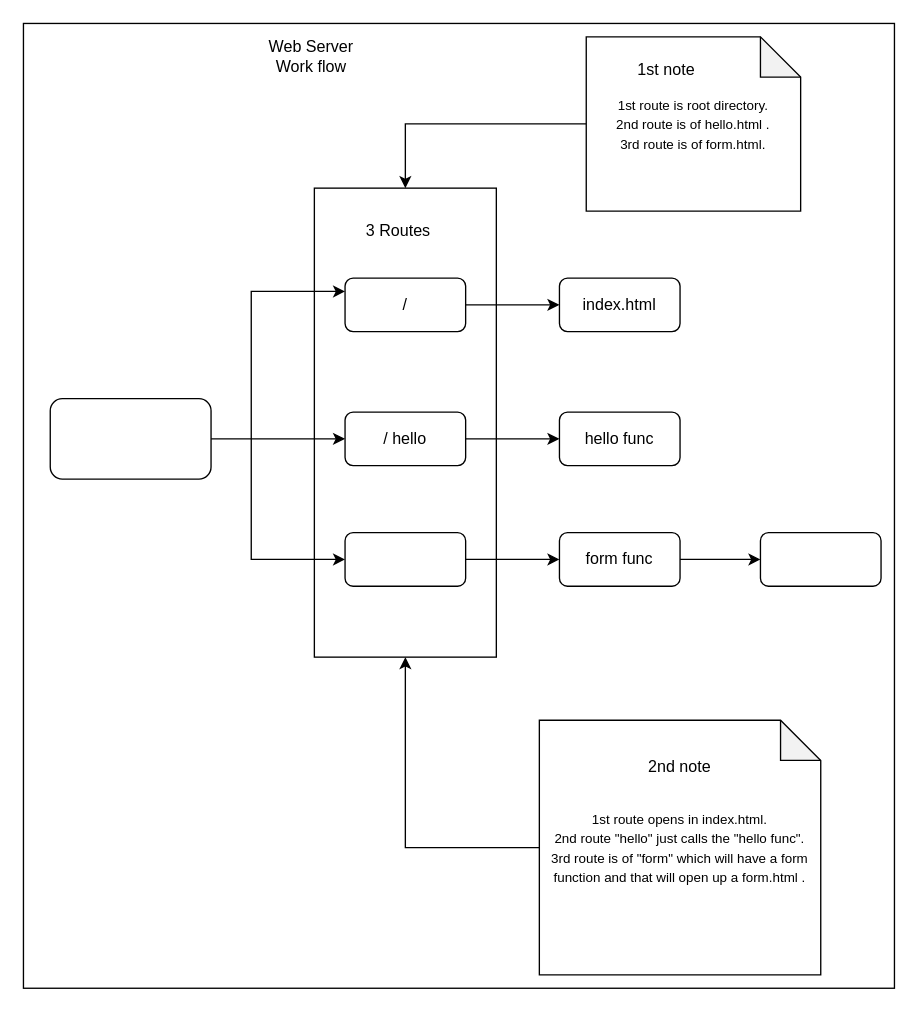
Image size: 918x1012. Some labels were removed from this diagram. The shapes that lost their labels are listed below. From the top down, each one's centre as x and y in pixels, then its label:
the point at 130,438: Server
the point at 405,558: / form
the point at 820,558: form.html
